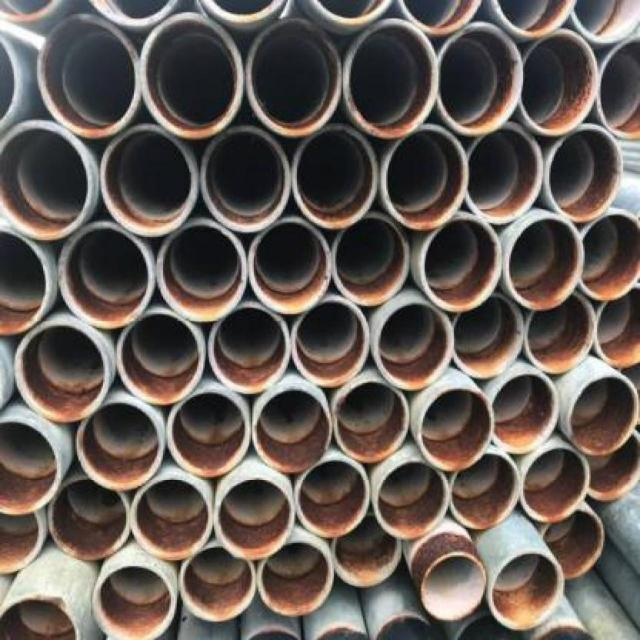pipe: (140, 13, 243, 139), (36, 14, 139, 138), (245, 17, 341, 137), (99, 123, 198, 237), (345, 19, 439, 139), (0, 120, 91, 240), (58, 222, 154, 330), (14, 321, 110, 423), (201, 127, 292, 233), (439, 21, 524, 133), (156, 221, 249, 323), (291, 124, 378, 230), (382, 125, 467, 229), (116, 308, 204, 405), (519, 30, 599, 136), (76, 398, 167, 491), (420, 215, 502, 312), (249, 219, 332, 314), (544, 122, 623, 221), (465, 123, 542, 223), (506, 214, 584, 310), (166, 388, 251, 476), (208, 305, 291, 394), (131, 476, 216, 561), (292, 296, 371, 387), (375, 302, 455, 391), (48, 477, 131, 562), (254, 383, 333, 472), (332, 216, 410, 306), (214, 476, 293, 561), (418, 386, 495, 471), (92, 563, 177, 640), (523, 289, 597, 376), (333, 380, 410, 463), (373, 458, 449, 540), (452, 293, 525, 378), (0, 417, 62, 517), (296, 456, 371, 538), (179, 543, 258, 620), (490, 551, 565, 632), (569, 372, 640, 457), (578, 206, 640, 302), (258, 539, 334, 616), (490, 372, 559, 454), (449, 451, 520, 529), (519, 446, 590, 523), (0, 229, 49, 335), (540, 507, 605, 580), (595, 38, 640, 142), (420, 554, 488, 621), (332, 533, 403, 589), (595, 286, 640, 368), (0, 593, 75, 640), (567, 0, 640, 44), (0, 501, 46, 570), (492, 0, 577, 35), (398, 0, 486, 33), (84, 0, 183, 26), (307, 0, 398, 23), (195, 0, 297, 20), (0, 32, 20, 134)
